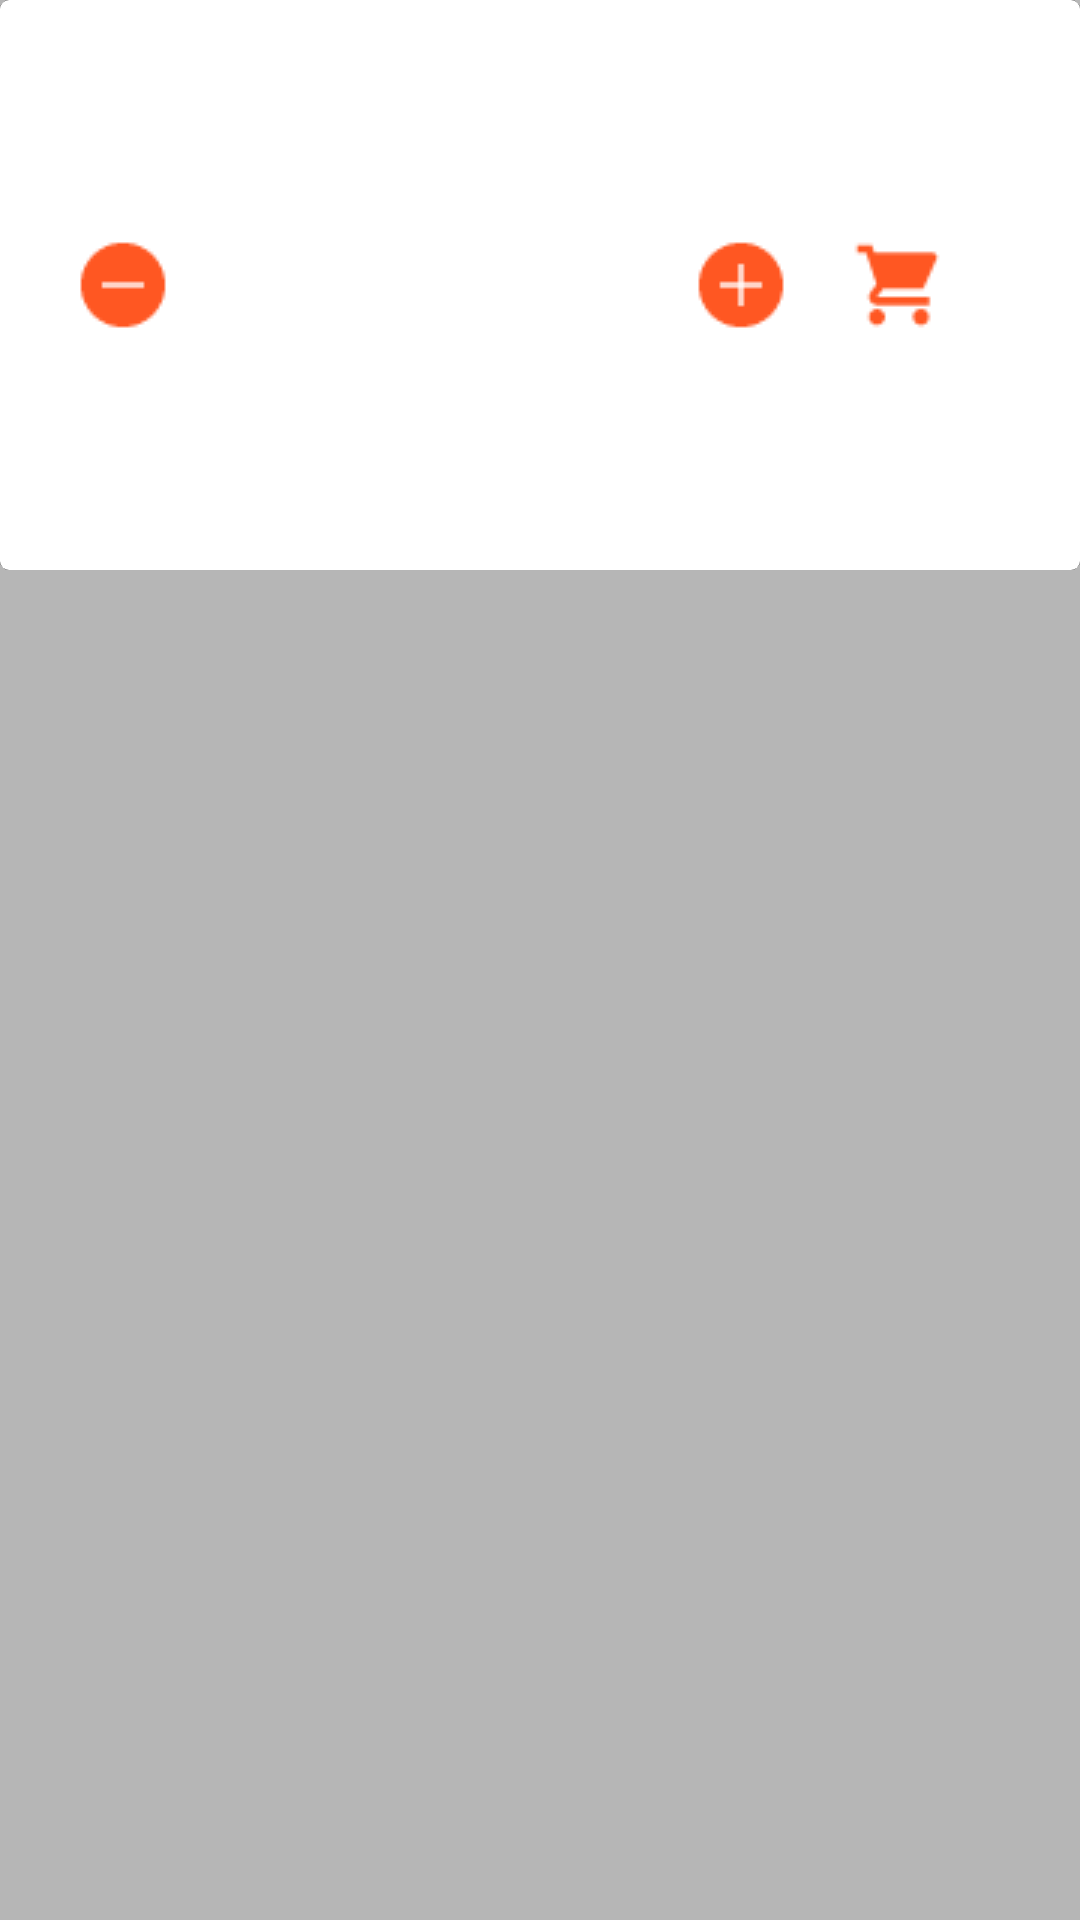

Icons on this 1080 × 1920 Android screen, each with its box as (x1, y1, x2, y2):
cart: (855, 243, 939, 327)
minus: (80, 242, 166, 328)
plus: (698, 242, 784, 328)
